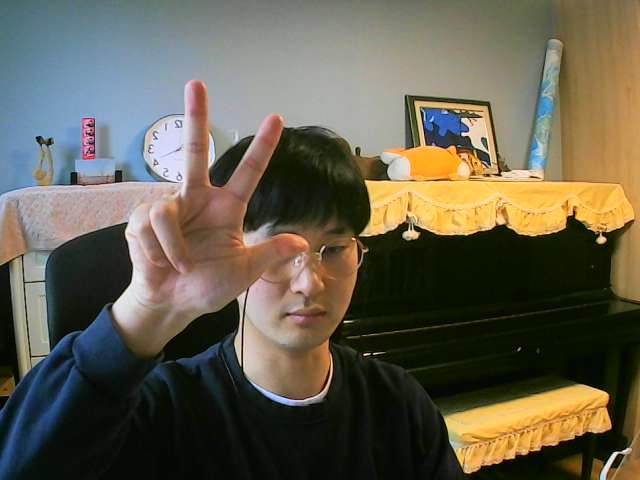three: (111, 71, 316, 338)
